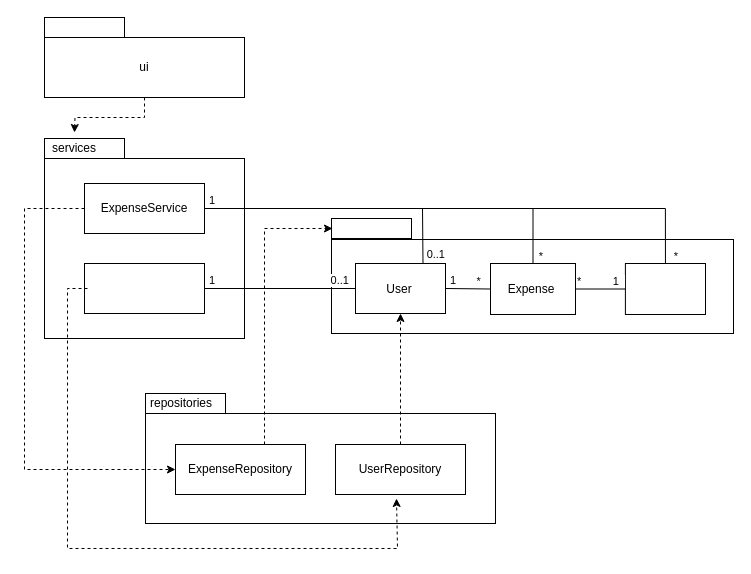
This 751x574 diagram has some shape labels left out. Here are the shapes that lost their labels. From the top down, the centre of each, then its label:
At (x=371, y=228): "entities".
At (x=144, y=288): "LoginService".
At (x=665, y=288): "Category".
